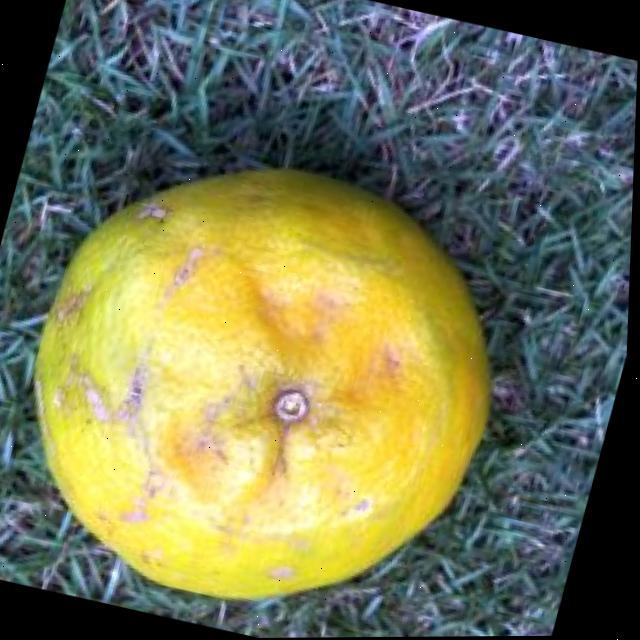Wet: (0, 120, 559, 640)
